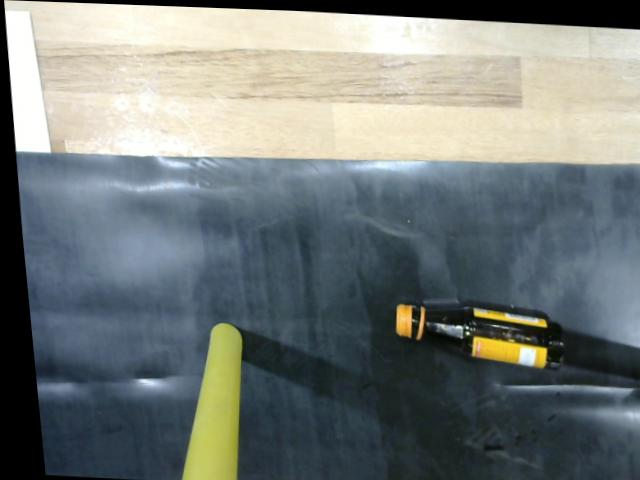glass: (386, 290, 564, 374)
